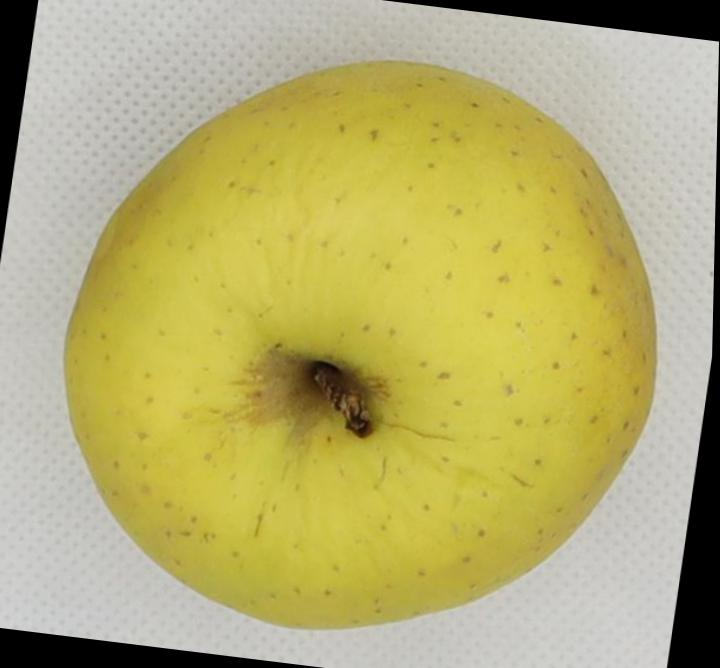apple: (64, 64, 655, 628)
